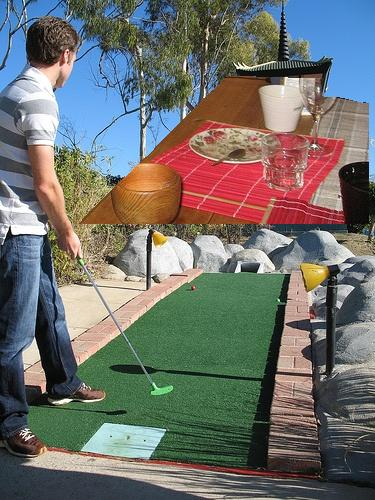tampered: (79, 77, 369, 224)
